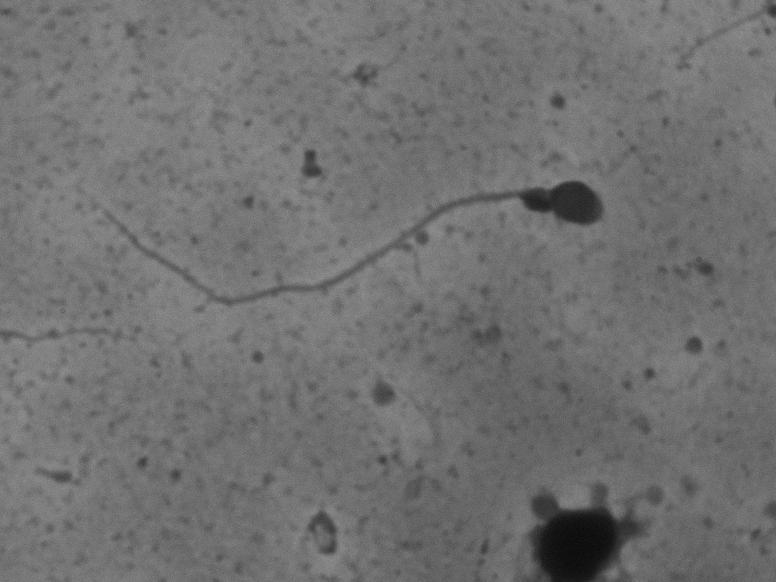Abnormal: (78, 126, 641, 349)
